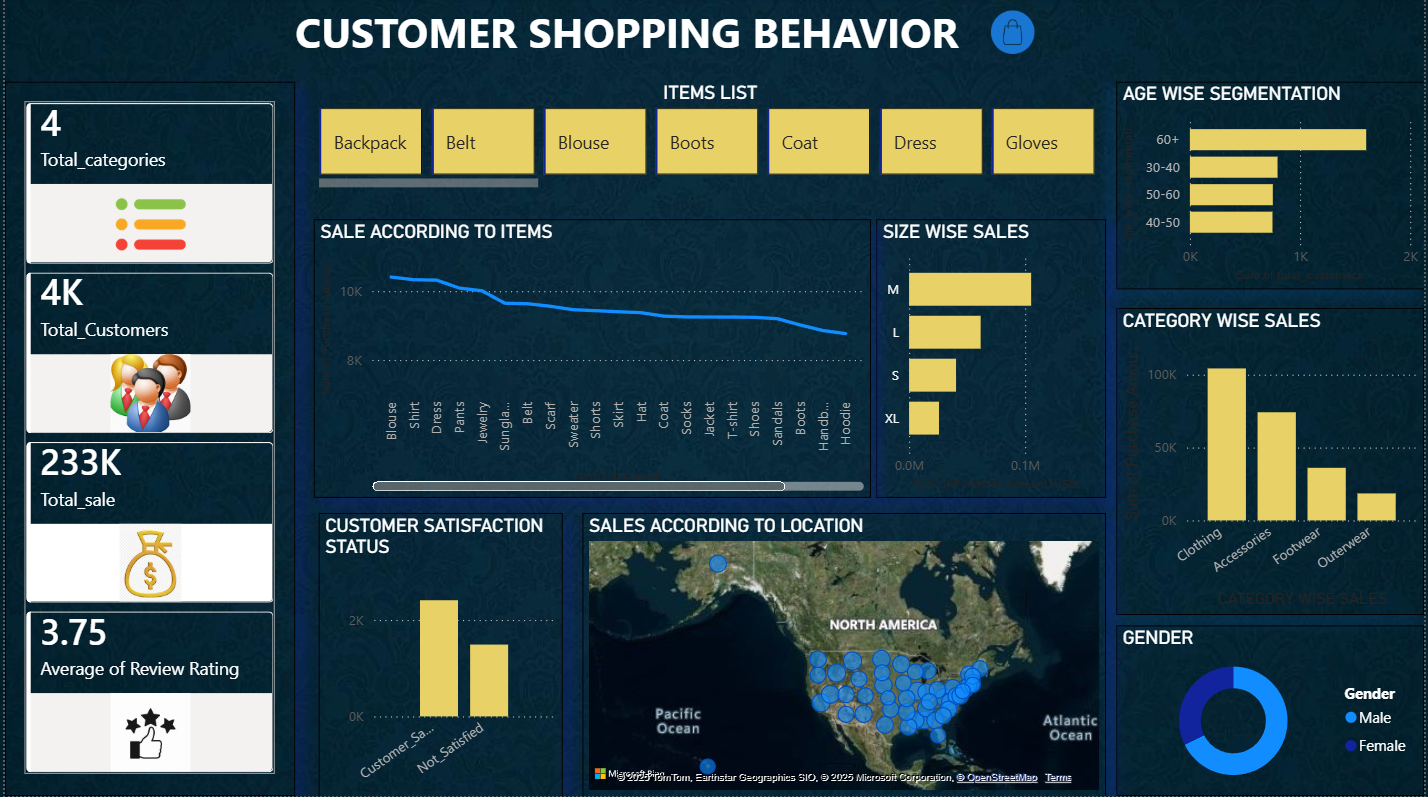

The dashboard page shown, as its layout file describes it:
{"tool":"powerbi","page":{"name":"Page 1","canvas":[1280,720],"ordinal":0},"visuals":[{"type":"textbox","box":[0,0,1280.2,75.9],"z":0},{"type":"image","box":[874.6,11.3,67.6,39.4],"z":1000},{"type":"barChart","title":"AGE WISE SEGMENTATION","fields":{"Category":["AGE WISE.age_wise_segmentation","shopping_behavior_updated.Age"],"Y":["Sum(AGE WISE.total_customers)"]},"box":[1002,75.5,278.4,187.1],"z":2000},{"type":"cardVisual","fields":{"Data":["shopping_behavior_updated.Total_categories","shopping_behavior_updated.Total_Customers","shopping_behavior_updated.Total_sale","Avg(shopping_behavior_updated.Review Rating)"]},"box":[0,75.6,261.6,644.2],"z":3000},{"type":"lineStackedColumnComboChart","title":"CATEGORY WISE SALES","fields":{"Category":["shopping_behavior_updated.Category"],"Y":["Sum(shopping_behavior_updated.Purchase Amount (USD))"]},"box":[1002.3,279.1,277.9,276.7],"z":4000},{"type":"donutChart","title":"GENDER","fields":{"Category":["shopping_behavior_updated.Gender"],"Y":["Sum(shopping_behavior_updated.Purchase Amount (USD))"]},"box":[1002.3,566.3,277.9,153.5],"z":5000},{"type":"columnChart","title":"CUSTOMER SATISFACTION STATUS","fields":{"Category":["SATISFACTION STATUS.satisfaction_status"],"Y":["Sum(SATISFACTION STATUS.total_customers)"]},"box":[282.6,464,219.8,255.8],"z":6000},{"type":"clusteredBarChart","title":"SIZE WISE SALES","fields":{"Category":["shopping_behavior_updated.Size"],"Y":["Sum(shopping_behavior_updated.Purchase Amount (USD))"]},"box":[786,200,207,251.2],"z":7000},{"type":"lineChart","title":"SALE ACCORDING TO ITEMS","fields":{"Category":["shopping_behavior_updated.Item Purchased"],"Y":["Sum(shopping_behavior_updated.Purchase Amount (USD))"]},"box":[277.9,200,502.3,251.2],"z":8000},{"type":"map","title":"SALES ACCORDING TO LOCATION","fields":{"Size":["Sum(shopping_behavior_updated.Purchase Amount (USD))"],"Category":["shopping_behavior_updated.Location"]},"box":[520.9,464,472.1,255.8],"z":9000},{"type":"advancedSlicerVisual","title":"ITEMS LIST","fields":{"Values":["shopping_behavior_updated.Item Purchased"]},"box":[277.9,75.6,715.1,102.3],"z":10000}]}

Visuals, with their boxes in screenshot pixels (x1, y1, x2, y2), scaled from the page's 1280x720 canvas onto the 1428x797 screenshot:
textbox: detection(0, 0, 1427, 84)
image: detection(976, 13, 1051, 56)
"AGE WISE SEGMENTATION" barChart: detection(1118, 84, 1427, 291)
cardVisual - shopping_behavior_updated.Total_categories x shopping_behavior_updated.Total_Customers: detection(0, 84, 292, 796)
"CATEGORY WISE SALES" lineStackedColumnComboChart: detection(1118, 309, 1427, 615)
"GENDER" donutChart: detection(1118, 627, 1427, 796)
"CUSTOMER SATISFACTION STATUS" columnChart: detection(315, 514, 560, 796)
"SIZE WISE SALES" clusteredBarChart: detection(877, 221, 1108, 499)
"SALE ACCORDING TO ITEMS" lineChart: detection(310, 221, 870, 499)
"SALES ACCORDING TO LOCATION" map: detection(581, 514, 1108, 796)
"ITEMS LIST" advancedSlicerVisual: detection(310, 84, 1108, 197)
